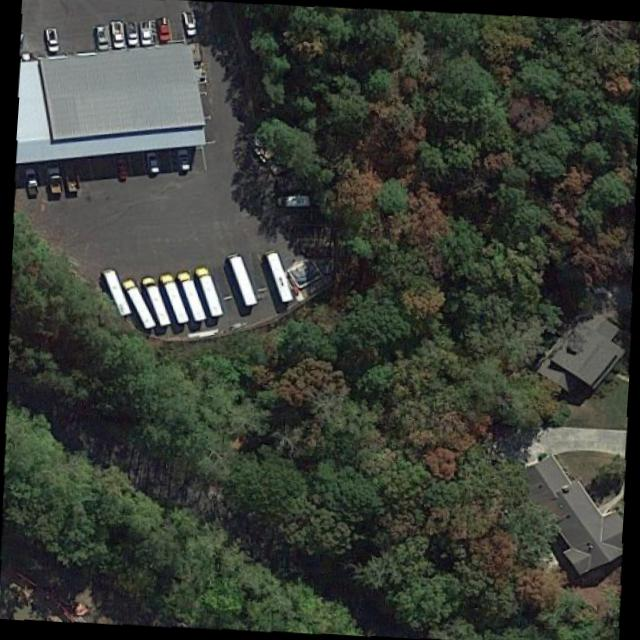large-vehicle: (121, 277, 158, 329), (176, 271, 207, 321), (160, 272, 190, 323), (228, 254, 258, 305), (141, 275, 171, 326), (195, 265, 224, 317), (266, 252, 295, 302), (103, 268, 132, 316)
small-vehicle: (61, 160, 84, 193), (177, 9, 201, 37), (46, 164, 64, 196), (23, 166, 41, 197), (108, 20, 128, 47), (92, 22, 112, 49), (142, 150, 162, 177), (276, 193, 311, 208), (41, 27, 62, 51), (114, 154, 132, 182), (154, 16, 173, 41), (137, 19, 155, 44), (173, 147, 191, 172), (123, 19, 139, 45)
